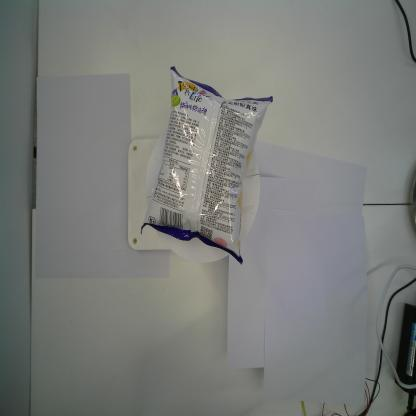Puffed Food: (140, 63, 273, 264)
